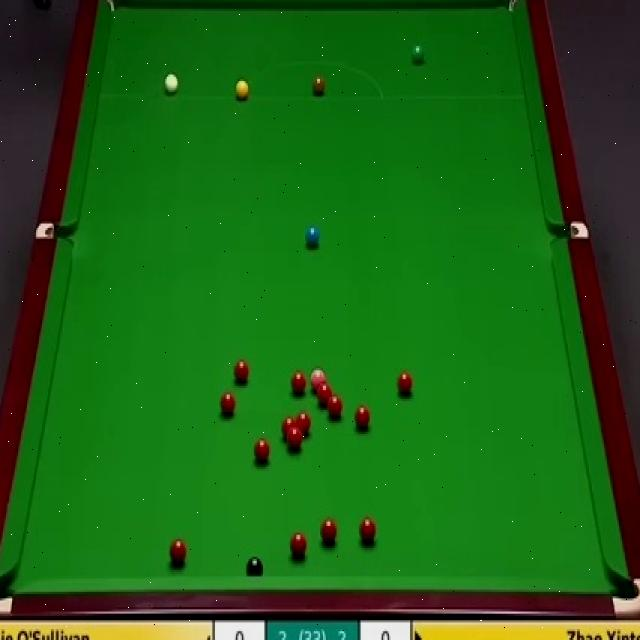black-ball: (248, 556, 267, 576)
blue-ball: (305, 227, 320, 245)
brown-ball: (312, 76, 326, 100)
green-ball: (412, 44, 423, 60)
pink-ball: (310, 368, 326, 390)
red-ball: (168, 538, 187, 565), (289, 532, 308, 559), (321, 514, 337, 546), (295, 411, 313, 439), (256, 438, 274, 463), (397, 368, 413, 394), (360, 518, 377, 542), (220, 394, 237, 416), (287, 428, 303, 451), (234, 359, 248, 385), (354, 407, 370, 427), (290, 371, 305, 392), (328, 397, 341, 421), (317, 382, 331, 404), (282, 418, 296, 438)
white-ball: (164, 70, 178, 92)
yellow-ball: (235, 79, 249, 101)
